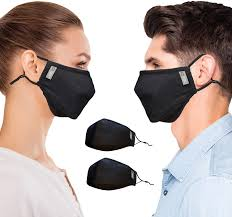with-mask: (134, 1, 232, 140), (2, 1, 97, 128)
